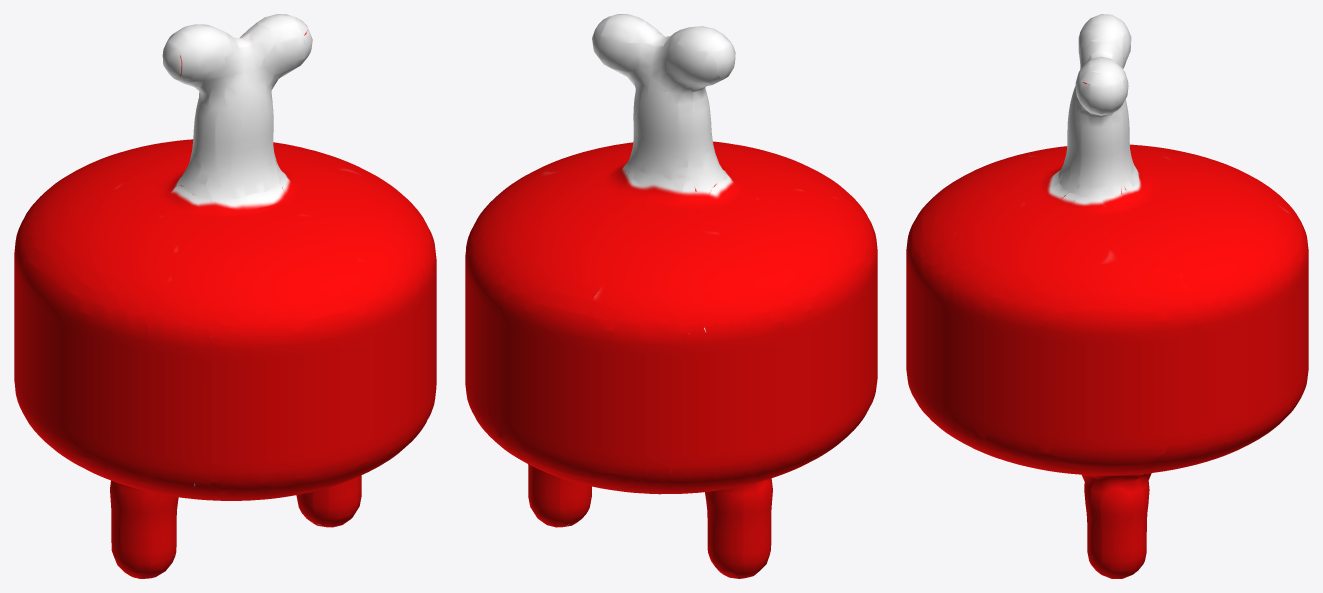
Rendered from mogcorpse.gltf.
3 renders of one model, left to right at view 1: azimuth 30°, elevation 25°; view 2: azimuth 150°, elevation 25°; view 3: azimuth 270°, elevation 25°, orthographic. The views are drawn at different scales.
Parts seen in each view (by area): view 1: Mball.006_Mesh.003; view 2: Mball.006_Mesh.003; view 3: Mball.006_Mesh.003.
Part boxes in pixels (x1,y1,x2,y2): Mball.006_Mesh.003: (14,14,436,578); Mball.006_Mesh.003: (465,14,877,578); Mball.006_Mesh.003: (906,14,1308,578).
Size of the model in its own units: 6.55 by 9.39 by 6.82.
1 material, 1 textured.
